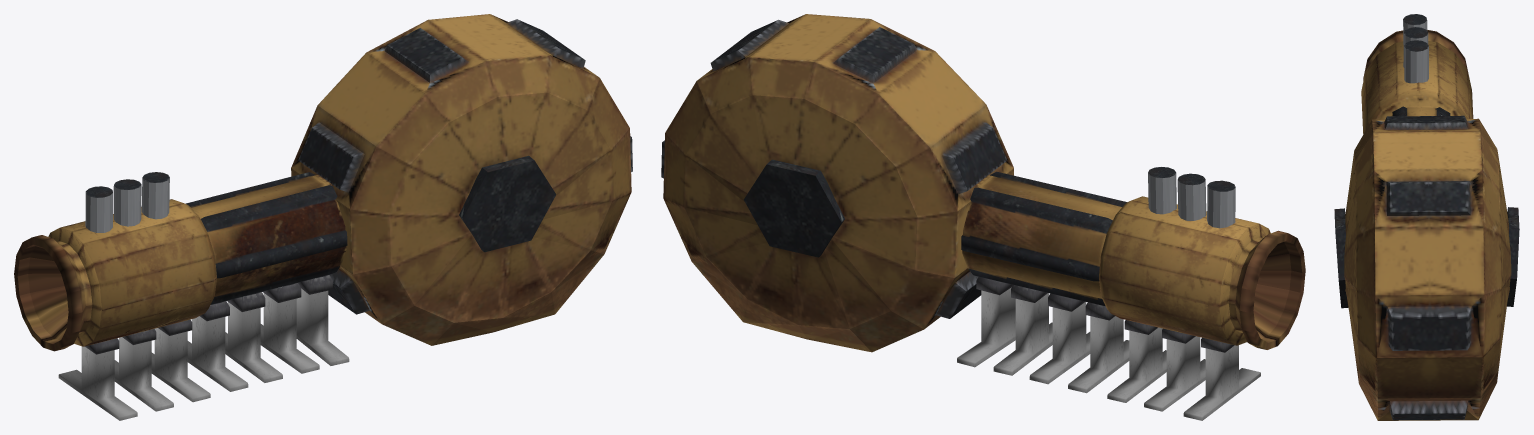
Rendered from cañon de gas.fbx.
3 renders of one model, left to right at view 1: azimuth 30°, elevation 25°; view 2: azimuth 150°, elevation 25°; view 3: azimuth 270°, elevation 25°, orthographic. The views are drawn at different scales.
Parts seen in each view (by area): view 1: cañon de gas; view 2: cañon de gas; view 3: cañon de gas.
Boxes of the visible parts, x1,y1,x2,y2 form: cañon de gas: (14, 14, 632, 420); cañon de gas: (661, 14, 1305, 420); cañon de gas: (1334, 14, 1519, 420).
Bounding box in the file's own units: 29.19 × 13.34 × 8.61.
